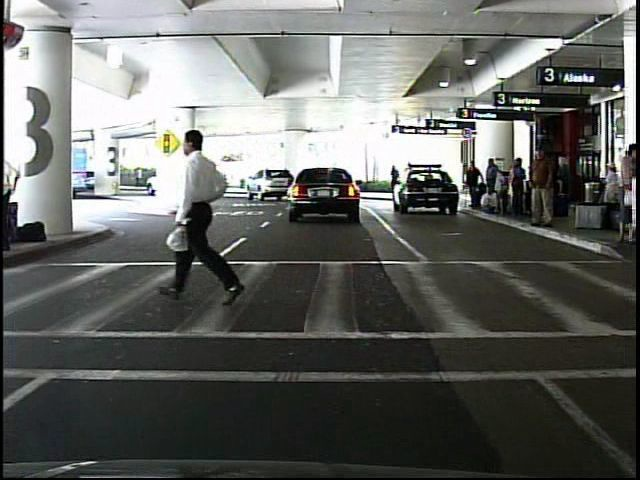person: (156, 129, 251, 310), (525, 143, 559, 231), (465, 159, 484, 210), (389, 163, 403, 199), (133, 163, 145, 188)
